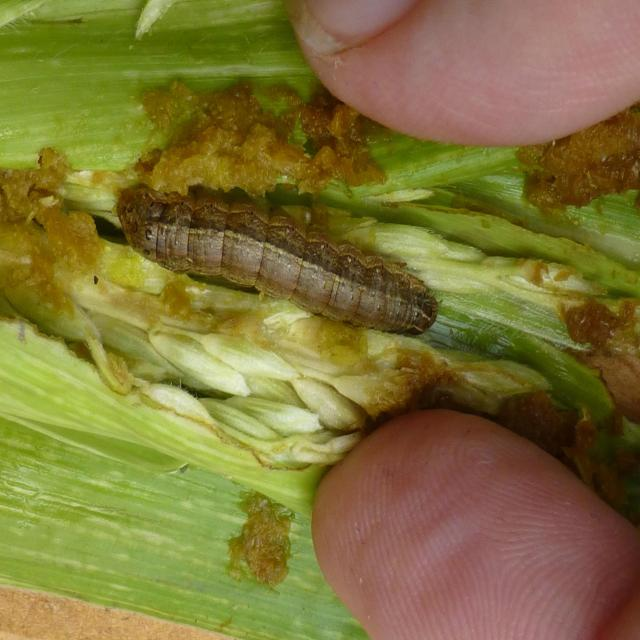army worm: (112, 172, 439, 345)
